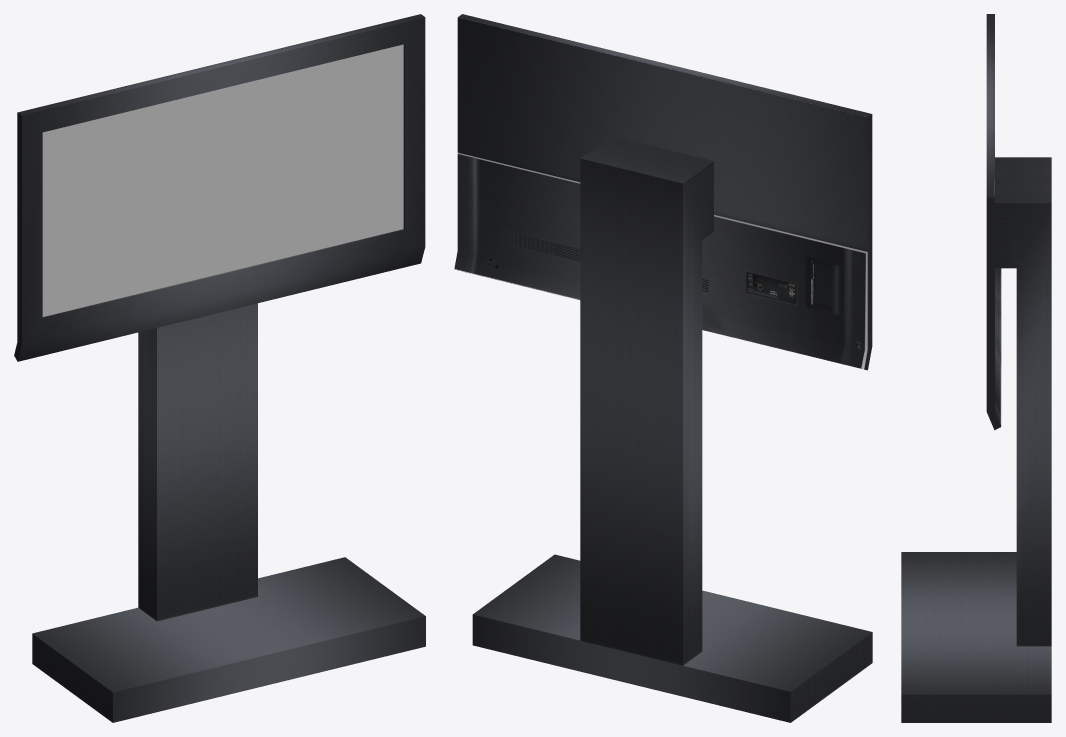
Rendered from LGSeocho25TVStand.fbx.
3 views of the same model, side by side, from view 1: azimuth 30°, elevation 25°; view 2: azimuth 150°, elevation 25°; view 3: azimuth 270°, elevation 25° (orthographic). The views are drawn at different scales.
Visible parts, largest first — view 1: LGSeocho25TVFrame, LGSeocho25TVScreen; view 2: LGSeocho25TVFrame; view 3: LGSeocho25TVFrame.
Boxes of the visible parts, x1=… form: LGSeocho25TVFrame: x1=14, y1=14, x2=425, y2=722; LGSeocho25TVScreen: x1=42, y1=44, x2=403, y2=316; LGSeocho25TVFrame: x1=454, y1=14, x2=872, y2=722; LGSeocho25TVFrame: x1=901, y1=14, x2=1051, y2=722.
Bounding box in the file's own units: 161 × 223 × 55.65.
